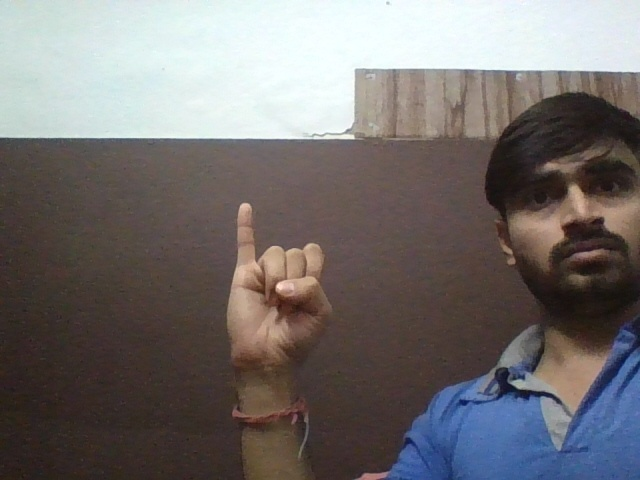I: (213, 194, 342, 370)
